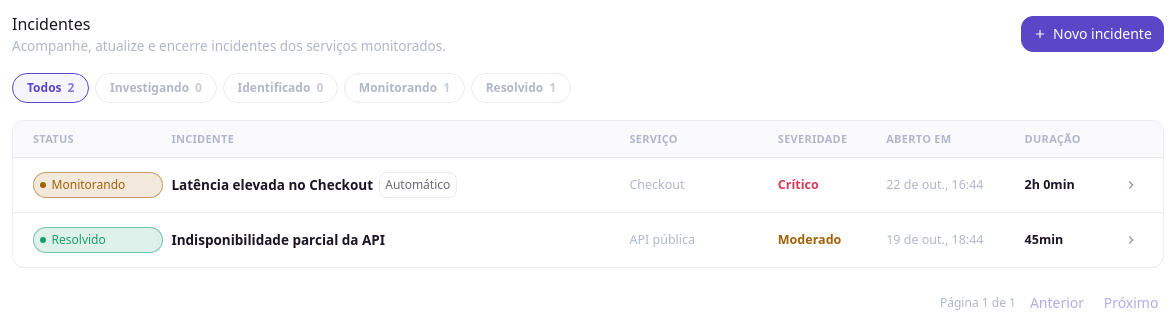
Scenario: IncidentsPage › status chip filters the table (Resolvido hides active ones)
Check: the text "Latência elevada no Checkout" is shown, box [171,175,373,196]
Click the button "Resolvido 1".
click(521, 88)  # box [471,73,571,103]
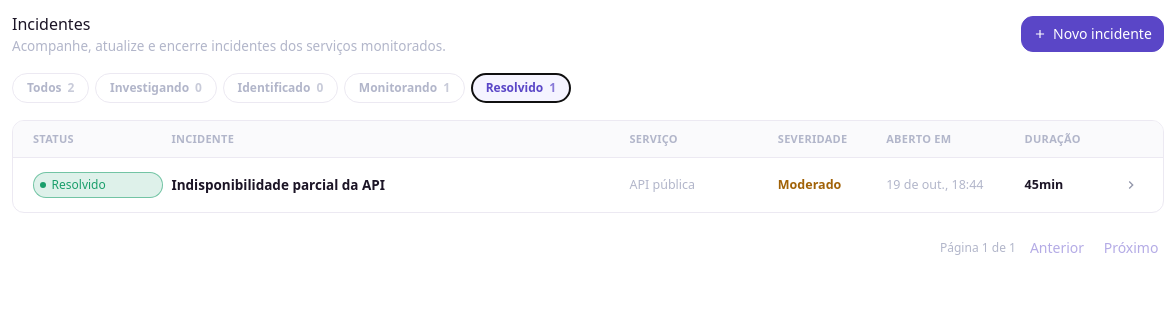
Check: the text "Indisponibilidade parcial da API" is shown, box [171,175,385,196]
Check: the text "Latência elevada no Checkout" is gone
